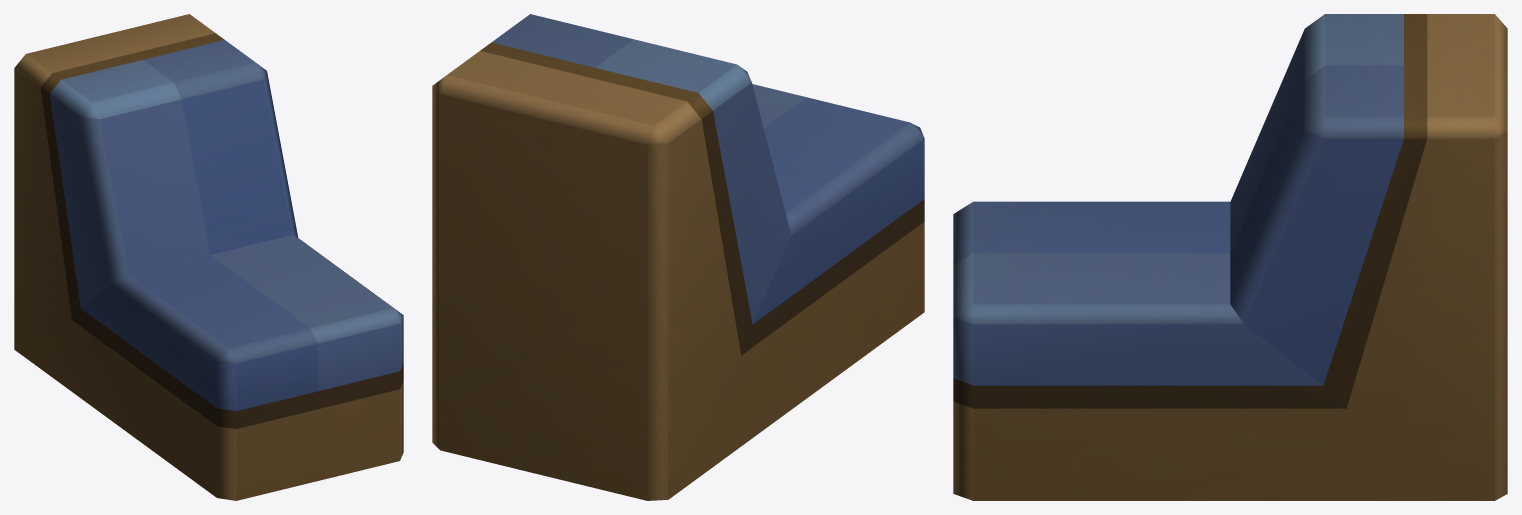
The model's file is chair_roof_x1_blue.fbx.
The picture shows the model from 3 angles, left to right: view 1: azimuth 30°, elevation 25°; view 2: azimuth 150°, elevation 25°; view 3: azimuth 270°, elevation 25°; orthographic projection. The views are drawn at different scales.
Visible parts, largest first — view 1: chair_roof_x1_blue; view 2: chair_roof_x1_blue; view 3: chair_roof_x1_blue.
Part boxes in pixels (bbox=[...]): chair_roof_x1_blue: bbox=[14, 14, 403, 500]; chair_roof_x1_blue: bbox=[432, 14, 924, 500]; chair_roof_x1_blue: bbox=[953, 14, 1507, 500].
Bounding box in the file's own units: 50 × 75 × 100.
